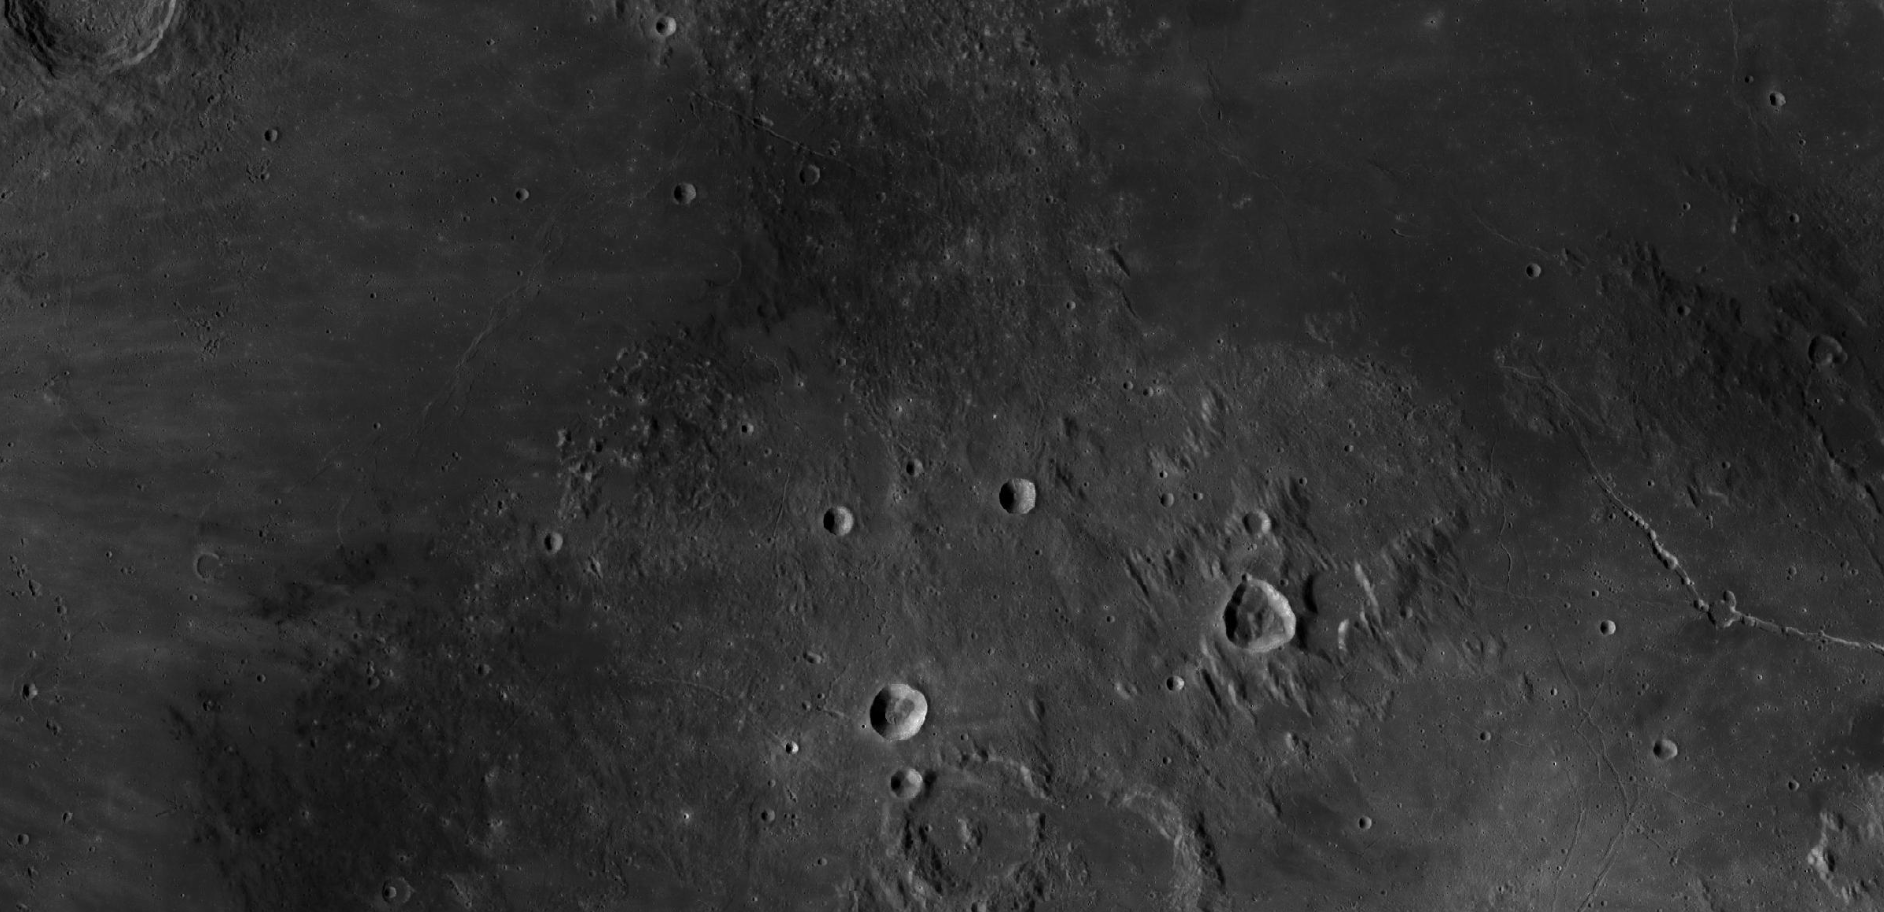crater: (1165, 517, 1390, 731), (2, 1, 229, 150), (976, 447, 1073, 555), (836, 663, 954, 751), (646, 150, 729, 248), (794, 485, 882, 561), (1761, 59, 1829, 125), (506, 173, 545, 217)
